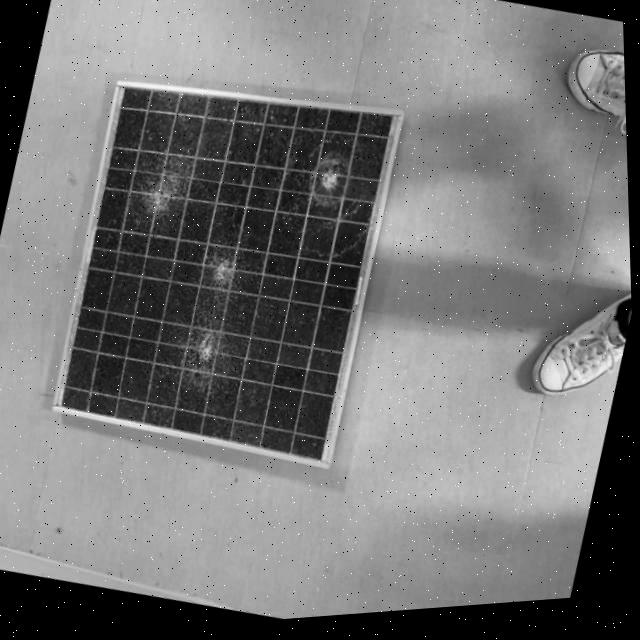Anomaly Solar Panel: (54, 78, 402, 473)
Structural Damage: (158, 234, 265, 407), (273, 133, 377, 248), (112, 135, 221, 241)
